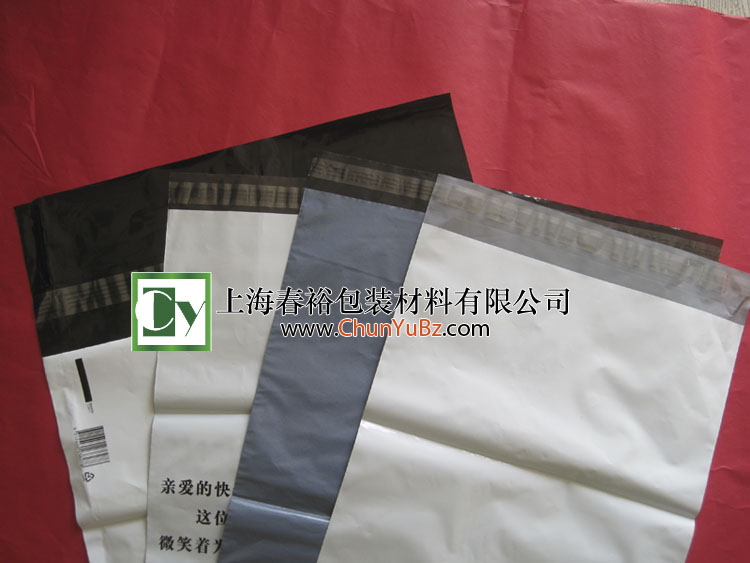塑料袋: (17, 95, 750, 562)
